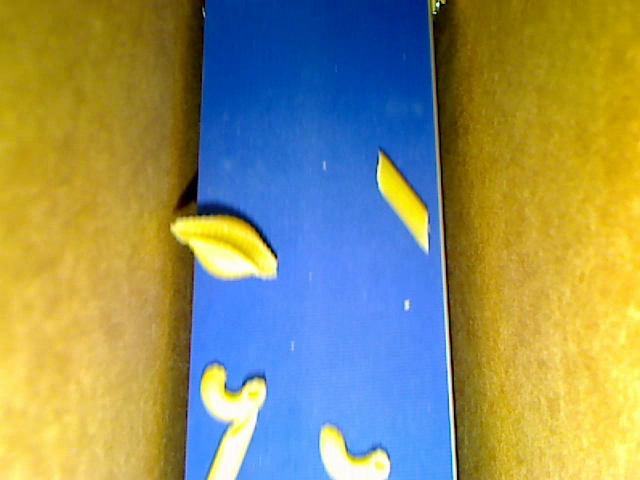elbow: (200, 362, 267, 423), (319, 423, 391, 479)
penne: (375, 148, 430, 254), (205, 409, 257, 479)
shell: (168, 215, 279, 282)
